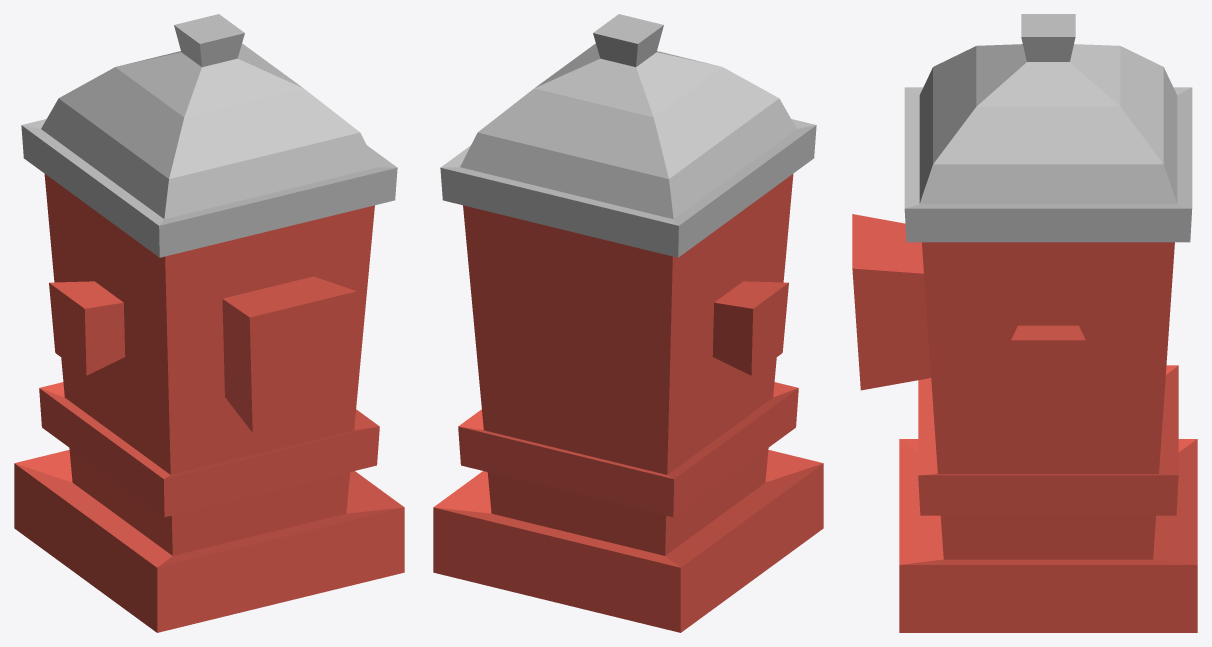
File: fireHydrant.fbx
3 views of the same model, side by side, from view 1: azimuth 30°, elevation 25°; view 2: azimuth 150°, elevation 25°; view 3: azimuth 270°, elevation 25° (orthographic). The views are drawn at different scales.
Parts seen in each view (by area): view 1: fireHydrant; view 2: fireHydrant; view 3: fireHydrant.
Boxes of the visible parts, x1,y1,x2,y2 form: fireHydrant: [14, 14, 404, 632]; fireHydrant: [433, 14, 823, 632]; fireHydrant: [852, 14, 1197, 632].
Size of the model in its own units: 49.83 by 87.03 by 50.01.
